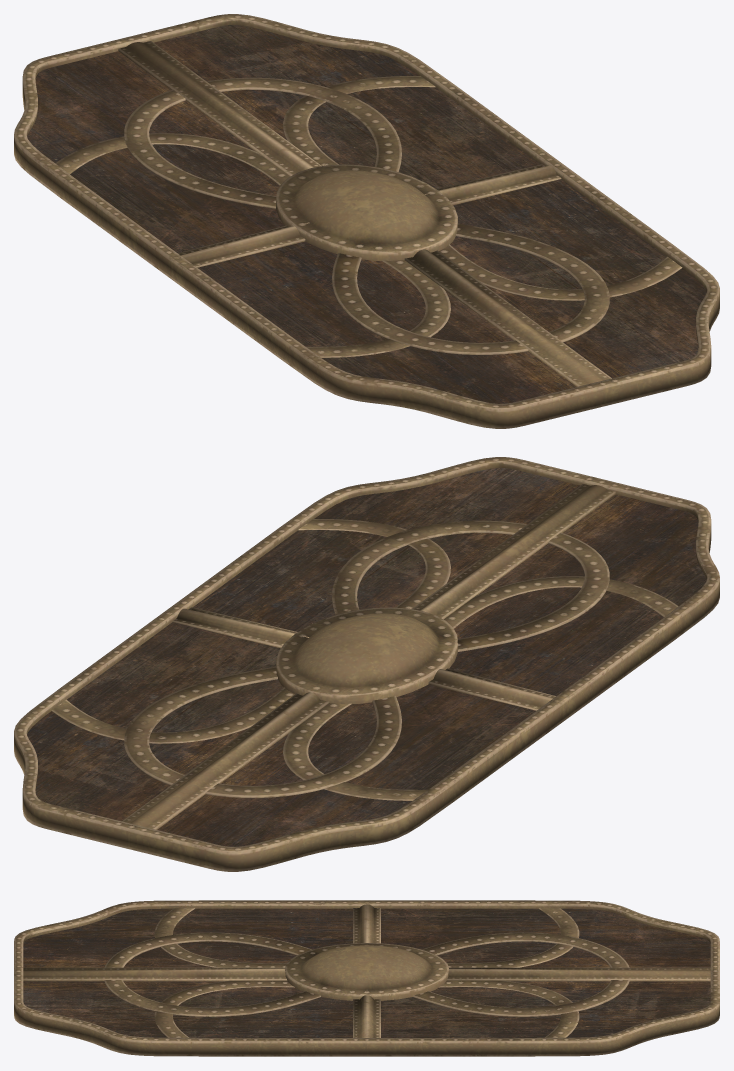
The model's file is dunland_wulf_shield_heavy_d.fbx.
3 views of the same model, one above another, from view 1: azimuth 30°, elevation 25°; view 2: azimuth 150°, elevation 25°; view 3: azimuth 270°, elevation 25° (orthographic). The views are drawn at different scales.
Visible parts, largest first — view 1: dunland_wulf_shield_heavy_d; view 2: dunland_wulf_shield_heavy_d; view 3: dunland_wulf_shield_heavy_d.
Part boxes in pixels (left/top/right/bottom): dunland_wulf_shield_heavy_d: left=14, top=14, right=719, bottom=428; dunland_wulf_shield_heavy_d: left=14, top=457, right=719, bottom=871; dunland_wulf_shield_heavy_d: left=14, top=900, right=719, bottom=1056.
Bounding box in the file's own units: 0.72 × 1.52 × 0.0806.
1 material, 1 textured.
